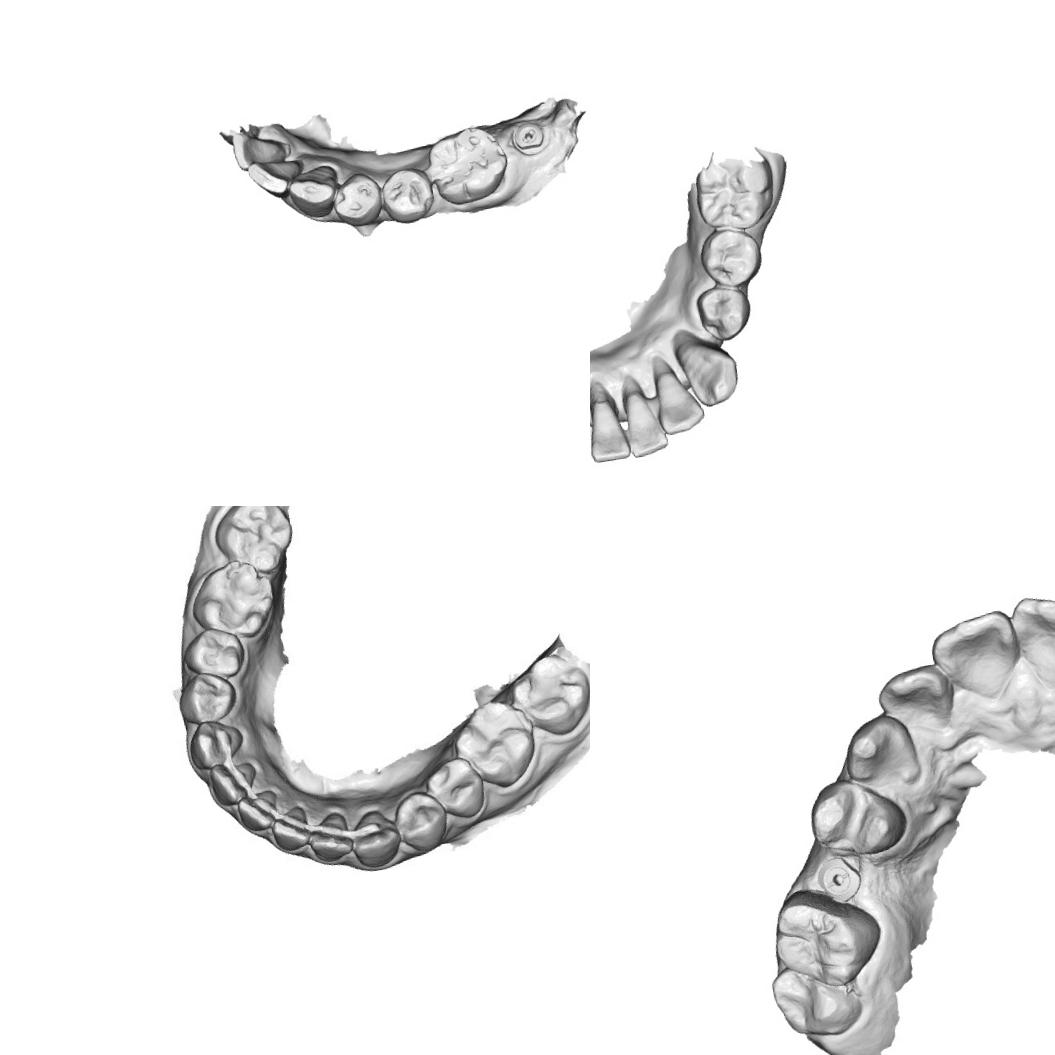canine: (837, 709, 922, 795), (677, 332, 743, 410), (346, 806, 402, 872), (284, 162, 344, 222), (182, 716, 245, 770)
implant_minus: (814, 852, 866, 906), (508, 117, 550, 158)
incisor: (930, 610, 1023, 704), (872, 660, 958, 739), (1008, 583, 1055, 691), (650, 362, 709, 437), (619, 386, 670, 460), (245, 153, 309, 203), (590, 391, 632, 466), (306, 807, 359, 866), (229, 123, 290, 173), (206, 756, 262, 805), (236, 784, 286, 836), (270, 802, 317, 854)
molar: (765, 881, 889, 994), (766, 956, 865, 1045), (186, 550, 278, 644), (422, 120, 514, 210), (453, 696, 540, 788), (690, 154, 780, 234), (511, 649, 590, 735), (211, 506, 294, 574)
premolar: (801, 772, 910, 865), (694, 222, 766, 290), (691, 280, 758, 345), (376, 162, 439, 228), (328, 167, 388, 232), (181, 624, 246, 681), (175, 670, 235, 730), (429, 756, 486, 815), (395, 790, 445, 846)
